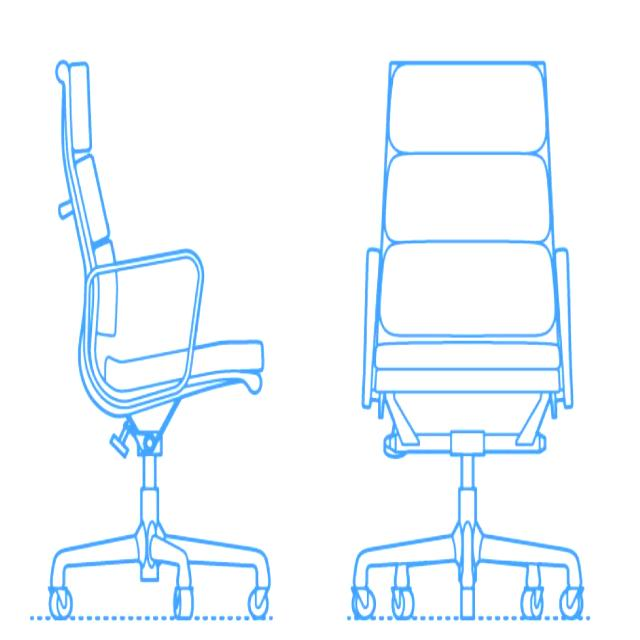5_Star_Base: (348, 481, 592, 625), (43, 482, 277, 624)
Armrest: (80, 243, 210, 414), (358, 241, 386, 418), (548, 241, 576, 417)
Backrest: (370, 55, 566, 353), (52, 56, 103, 375)
Base: (372, 384, 562, 464), (112, 388, 190, 476)
Caster_Wheel: (553, 576, 592, 628), (39, 579, 80, 624), (384, 577, 420, 626), (168, 580, 202, 627), (345, 579, 379, 626), (516, 577, 550, 623), (242, 581, 274, 626)
Control_Mechanism: (104, 414, 140, 465)
Headrest: (388, 61, 548, 155), (66, 57, 95, 158)
Lumbar_Support: (379, 153, 556, 340), (69, 146, 120, 343)
Seat: (369, 335, 565, 398), (101, 327, 269, 398)
